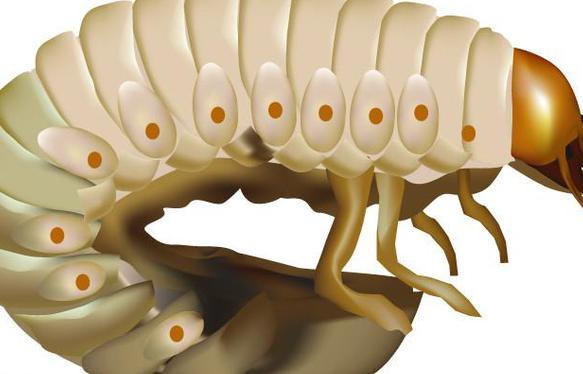grub: (4, 1, 583, 374)
